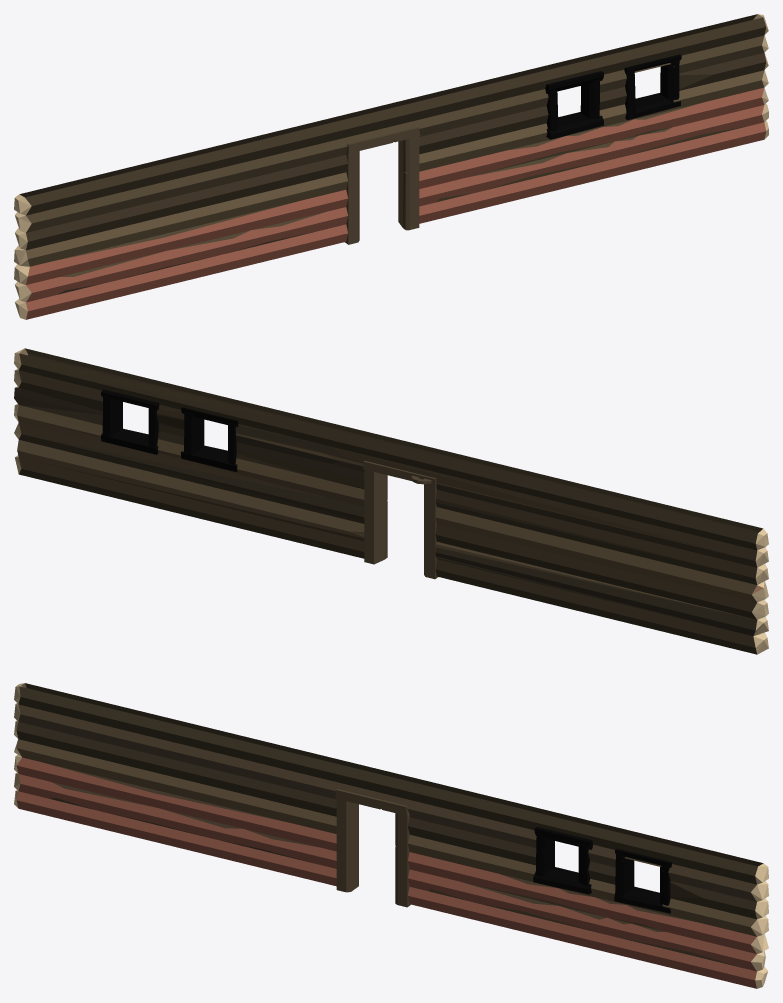
The model's file is EA03_Village_Hut_Wall_Painted_Side_02e.glb.
3 renders of one model, top to bottom at view 1: azimuth 30°, elevation 25°; view 2: azimuth 150°, elevation 25°; view 3: azimuth 330°, elevation 25°, orthographic.
Parts seen in each view (by area): view 1: EA03_Village_Hut_Wall_Painted_Side_02e; view 2: EA03_Village_Hut_Wall_Painted_Side_02e; view 3: EA03_Village_Hut_Wall_Painted_Side_02e.
Boxes of the visible parts, <box> form: EA03_Village_Hut_Wall_Painted_Side_02e: <box>14,14,768,319</box>; EA03_Village_Hut_Wall_Painted_Side_02e: <box>14,348,768,654</box>; EA03_Village_Hut_Wall_Painted_Side_02e: <box>14,683,768,988</box>.
Bounding box in the file's own units: 19.97 × 3.13 × 0.8453.
Materials: 1 (1 with a texture image).
